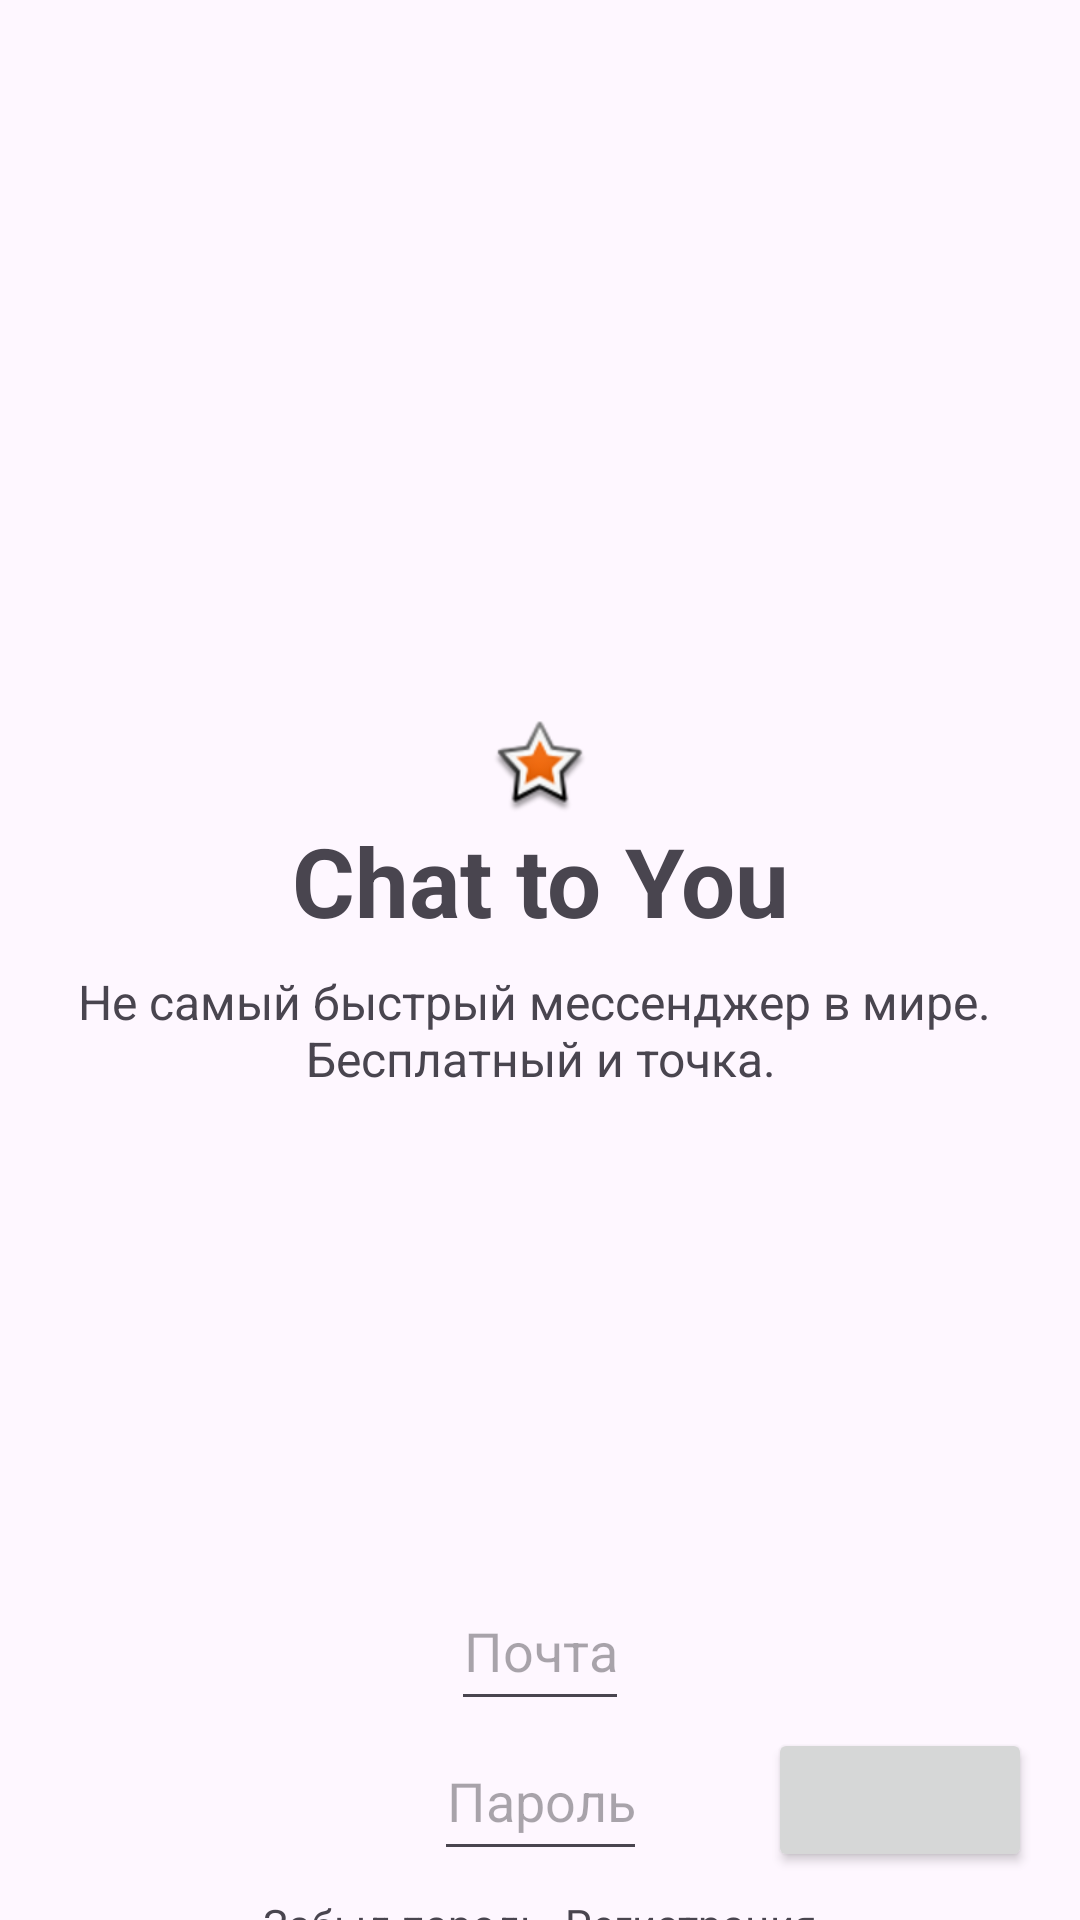

Icons on this 1080px x 1920px Android screen, each with the point to tap as (x,y):
star on: (540,764)
